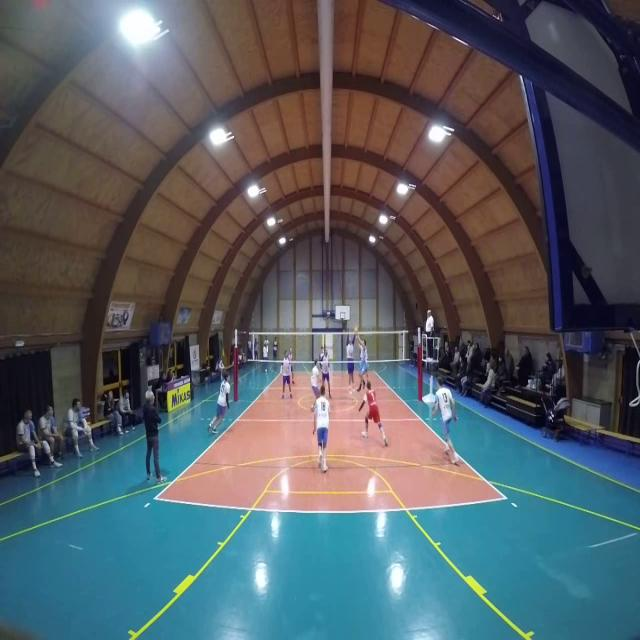Volleyball: (352, 325, 360, 335)
